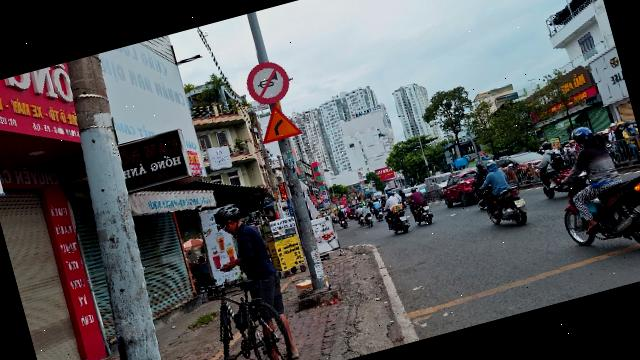cam-bop-coi: (241, 56, 294, 109)
cho-ngoat-nguy-hiem-ben-trai: (252, 99, 302, 144)
